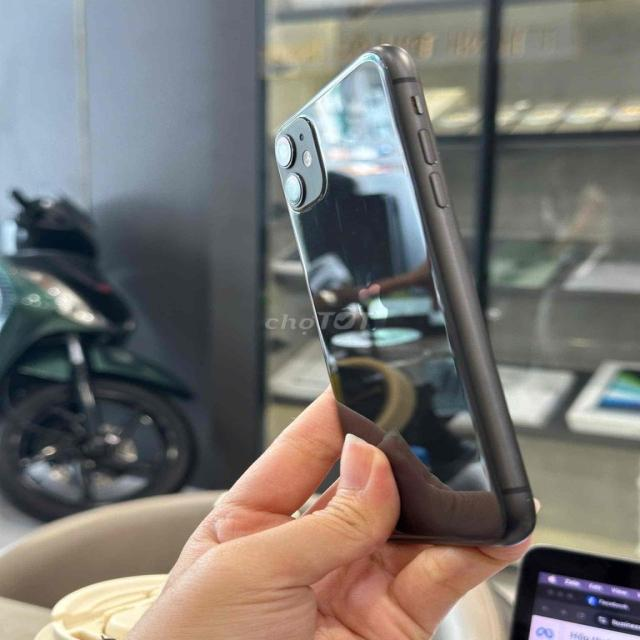gen_11: (260, 38, 559, 558)
